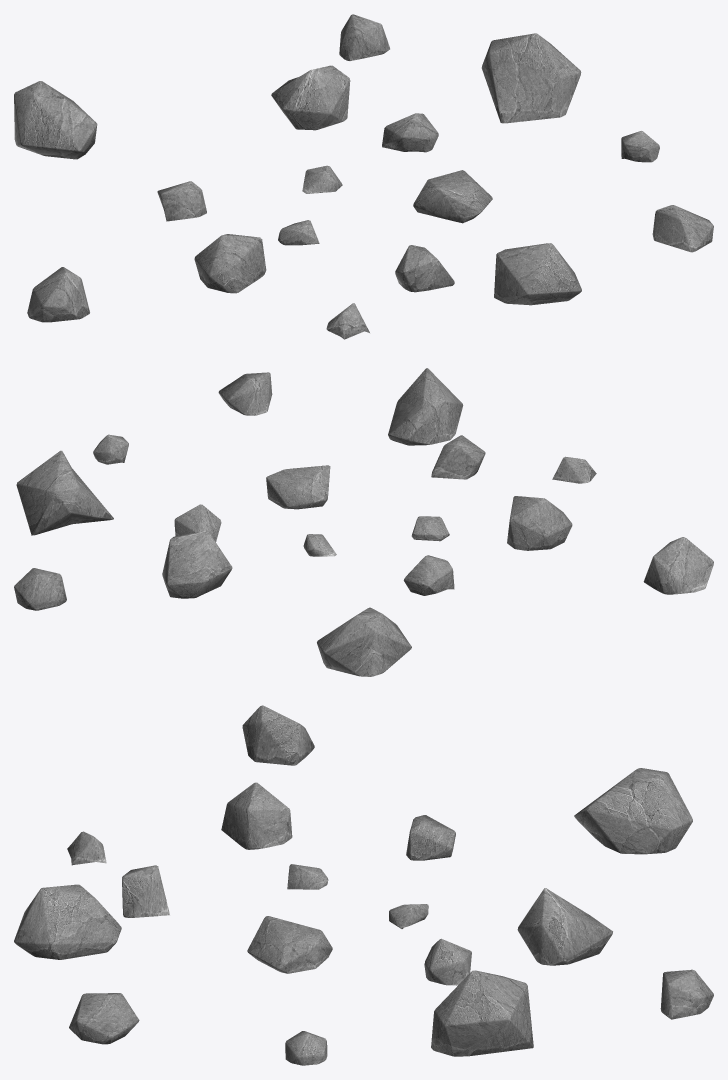
File: Rubble01.fbx
3 renders of one model, top to bottom at view 1: azimuth 30°, elevation 25°; view 2: azimuth 150°, elevation 25°; view 3: azimuth 270°, elevation 25°, orthographic. The views are drawn at different scales.
Visible parts, largest first — view 1: Rubble01_LOD0; view 2: Rubble01_LOD0; view 3: Rubble01_LOD0.
Part boxes in pixels (bbox=[...]): Rubble01_LOD0: bbox=[14, 14, 713, 339]; Rubble01_LOD0: bbox=[14, 368, 713, 676]; Rubble01_LOD0: bbox=[14, 705, 713, 1065].
Size of what is drawn, in the model's own units: 2.96 by 0.3256 by 2.65.
